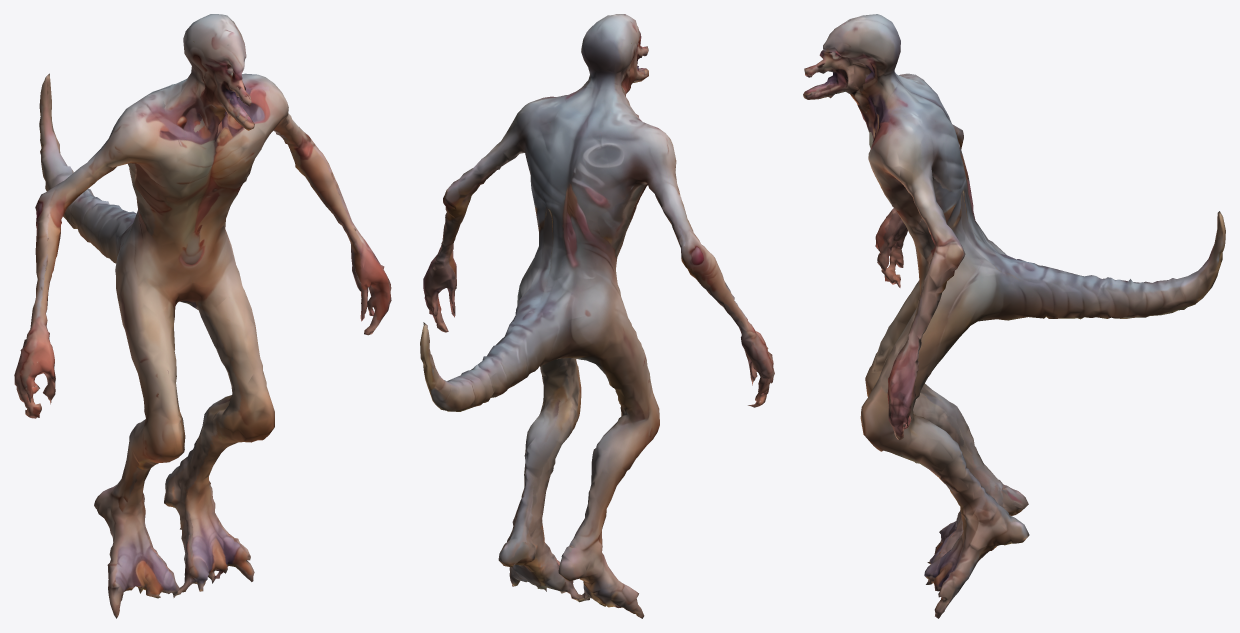
Rendered from humanoid_hospital_ter_1004163307_refine.fbx.
The picture shows the model from 3 angles, left to right: view 1: azimuth 30°, elevation 25°; view 2: azimuth 150°, elevation 25°; view 3: azimuth 270°, elevation 25°; orthographic projection. The views are drawn at different scales.
Parts seen in each view (by area): view 1: Mesh_0; view 2: Mesh_0; view 3: Mesh_0.
Boxes of the visible parts, left/top/right/bottom form: Mesh_0: left=14, top=14, right=391, bottom=618; Mesh_0: left=420, top=14, right=774, bottom=618; Mesh_0: left=803, top=14, right=1225, bottom=618.
Size of the model in its own units: 76.88 by 120 by 80.48.
Materials: 1 (1 with a texture image).
